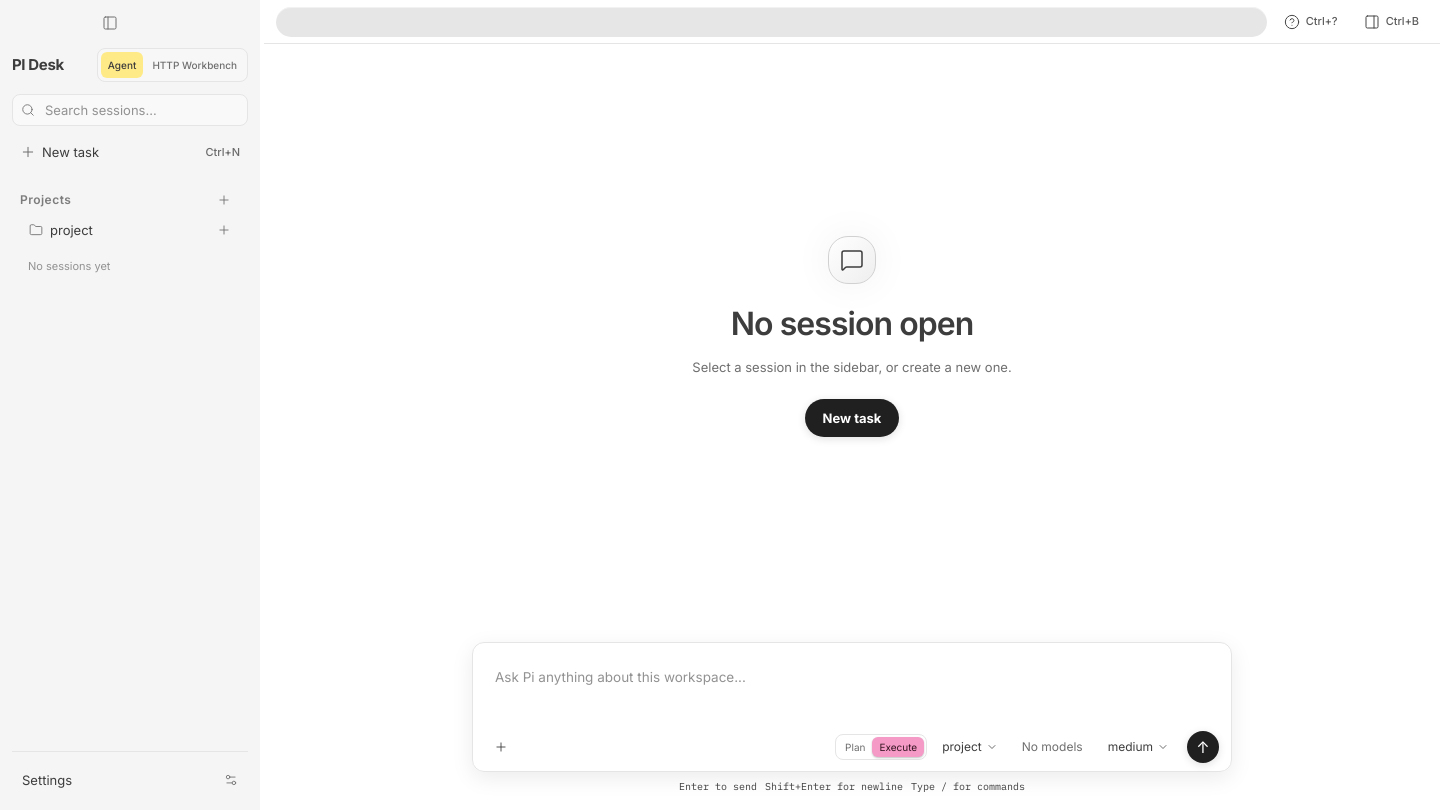
Test: Pi Desktop end-to-end send flow › ⌘W closes (detaches) the active tab without aborting or disposing
The width and height of the screenshot is (1440, 810).
Note: Send a message so a session tab gets seeded.
Type "hello" into the text box named "message".
click(852, 693); type("hello")  # box [485, 655, 1219, 731]
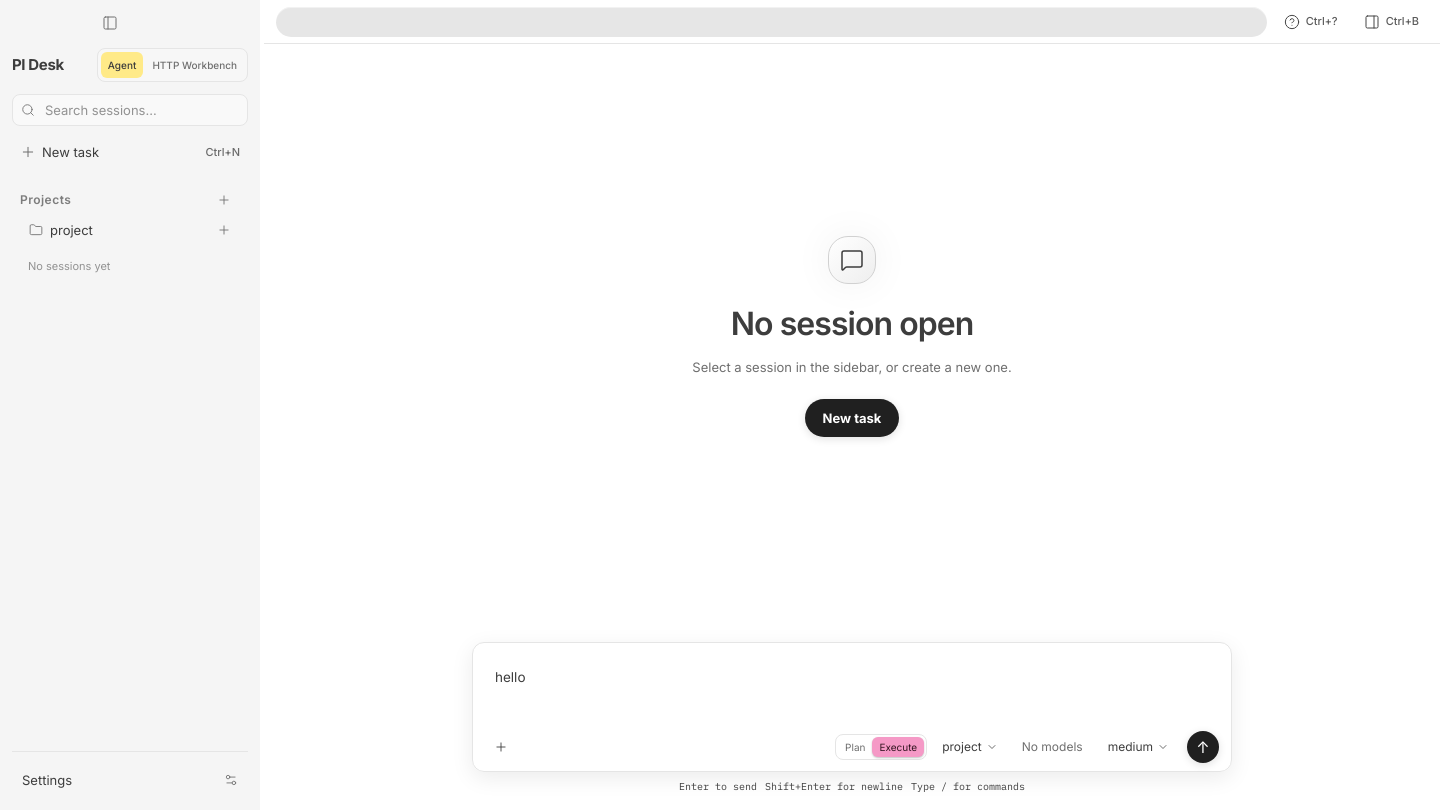
Click the button named "send".
click(1203, 747)  # box [1187, 731, 1219, 763]
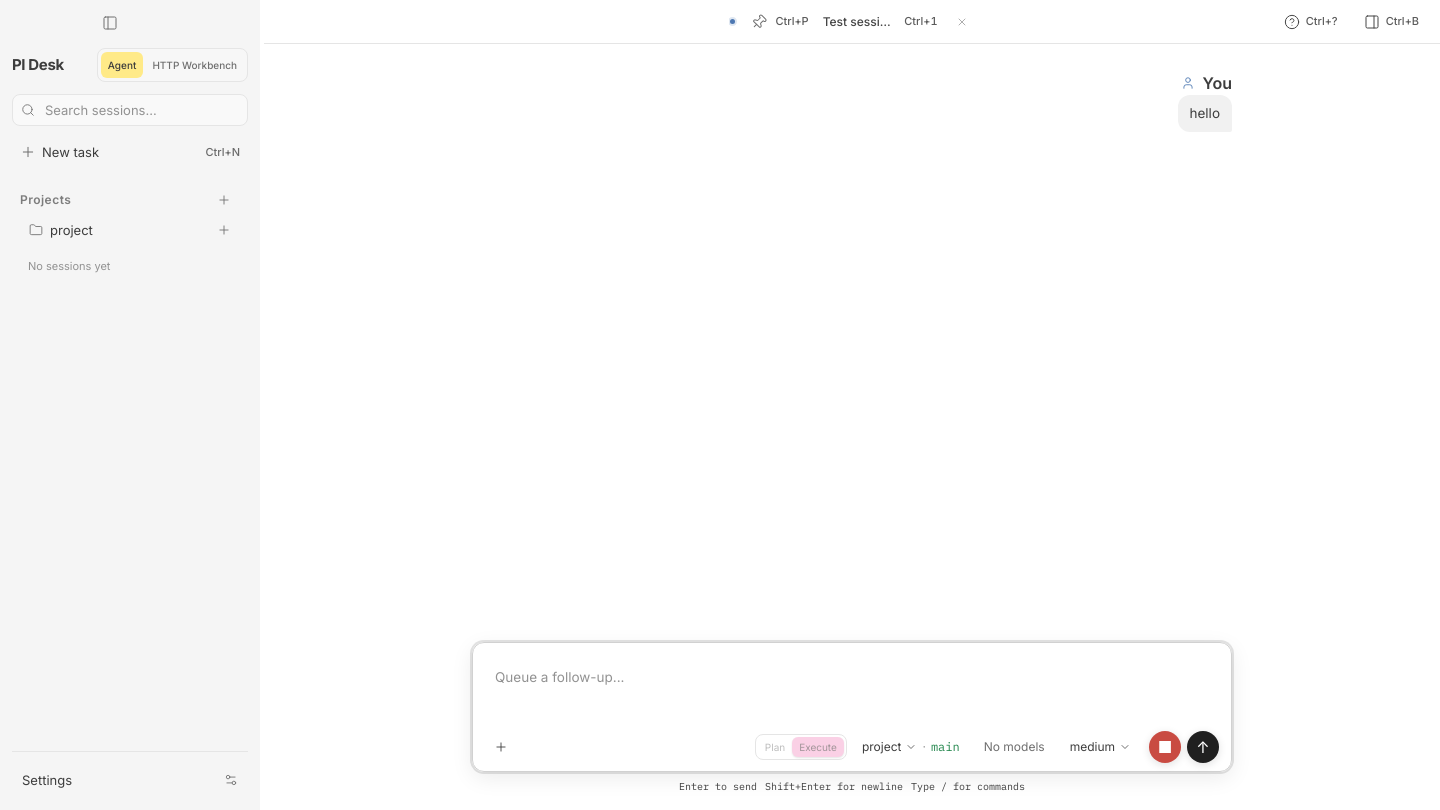
Expected: the tab "Ctrl+P Test session Ctrl+1" is shown, [730, 8, 974, 34]
Note: ⌘W closes the active tab…
Press w
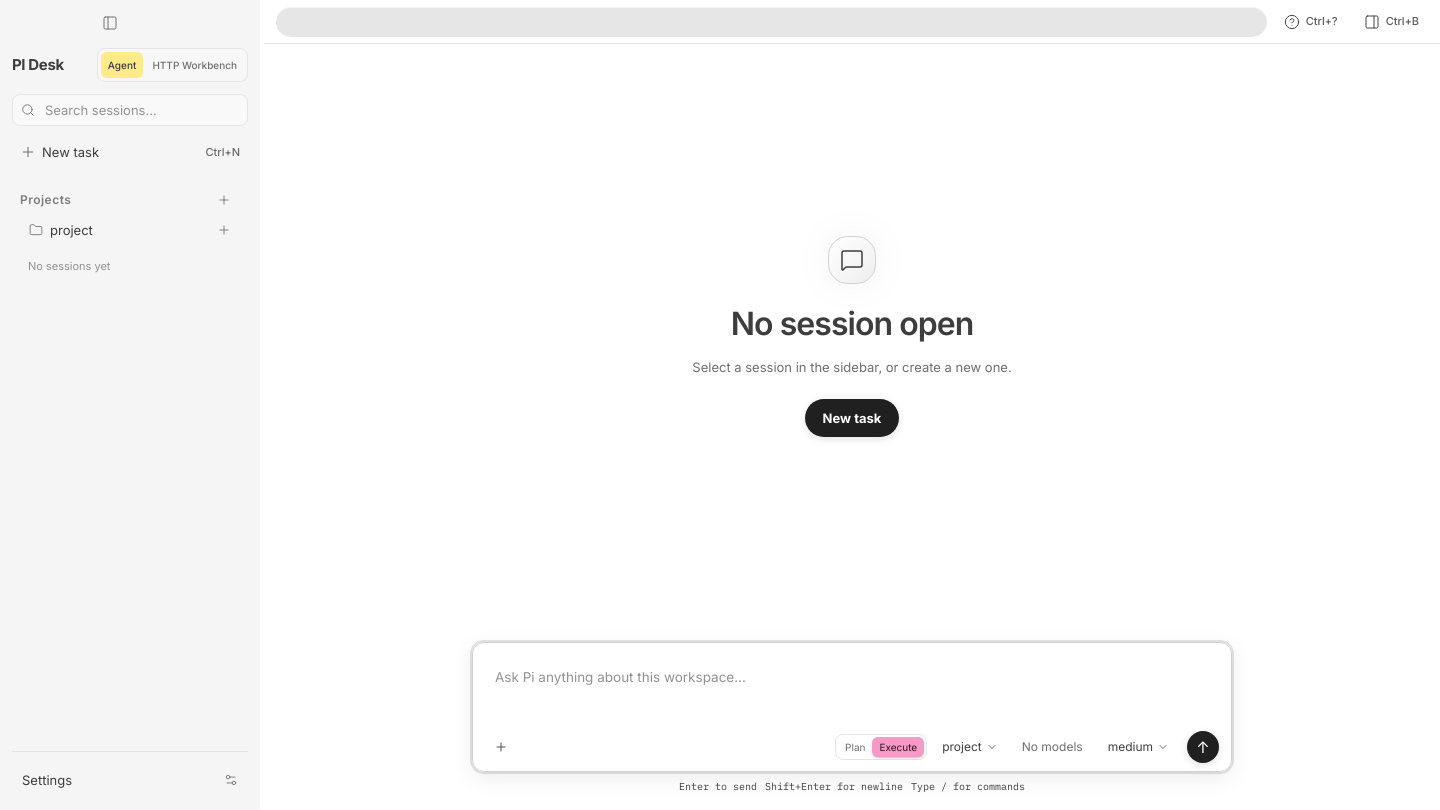
Expected: no tabs are shown
